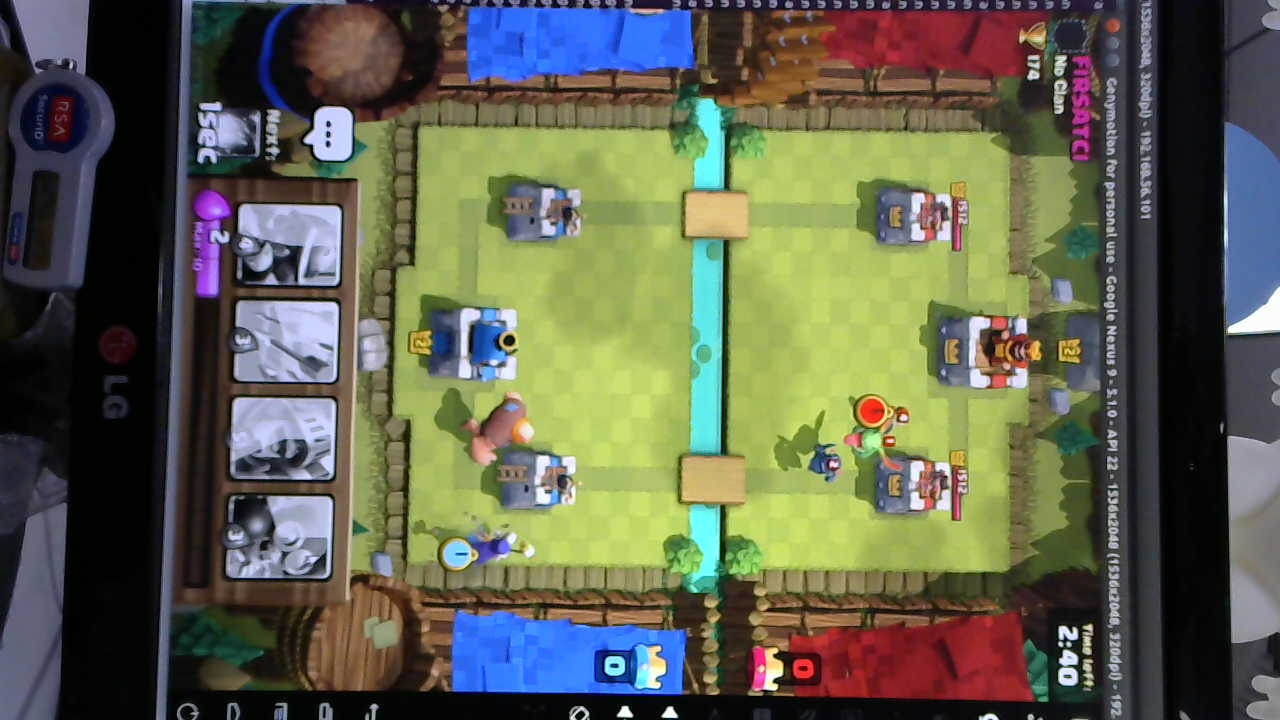arena: (500, 179, 587, 248), (500, 447, 581, 510)
dragon: (841, 418, 896, 461)
earena: (871, 183, 954, 249), (871, 455, 955, 517)
eking: (937, 311, 1035, 391)
giant: (461, 394, 535, 468)
king: (433, 301, 523, 388)
minipekka: (804, 444, 846, 487)
witch: (465, 529, 523, 566)
